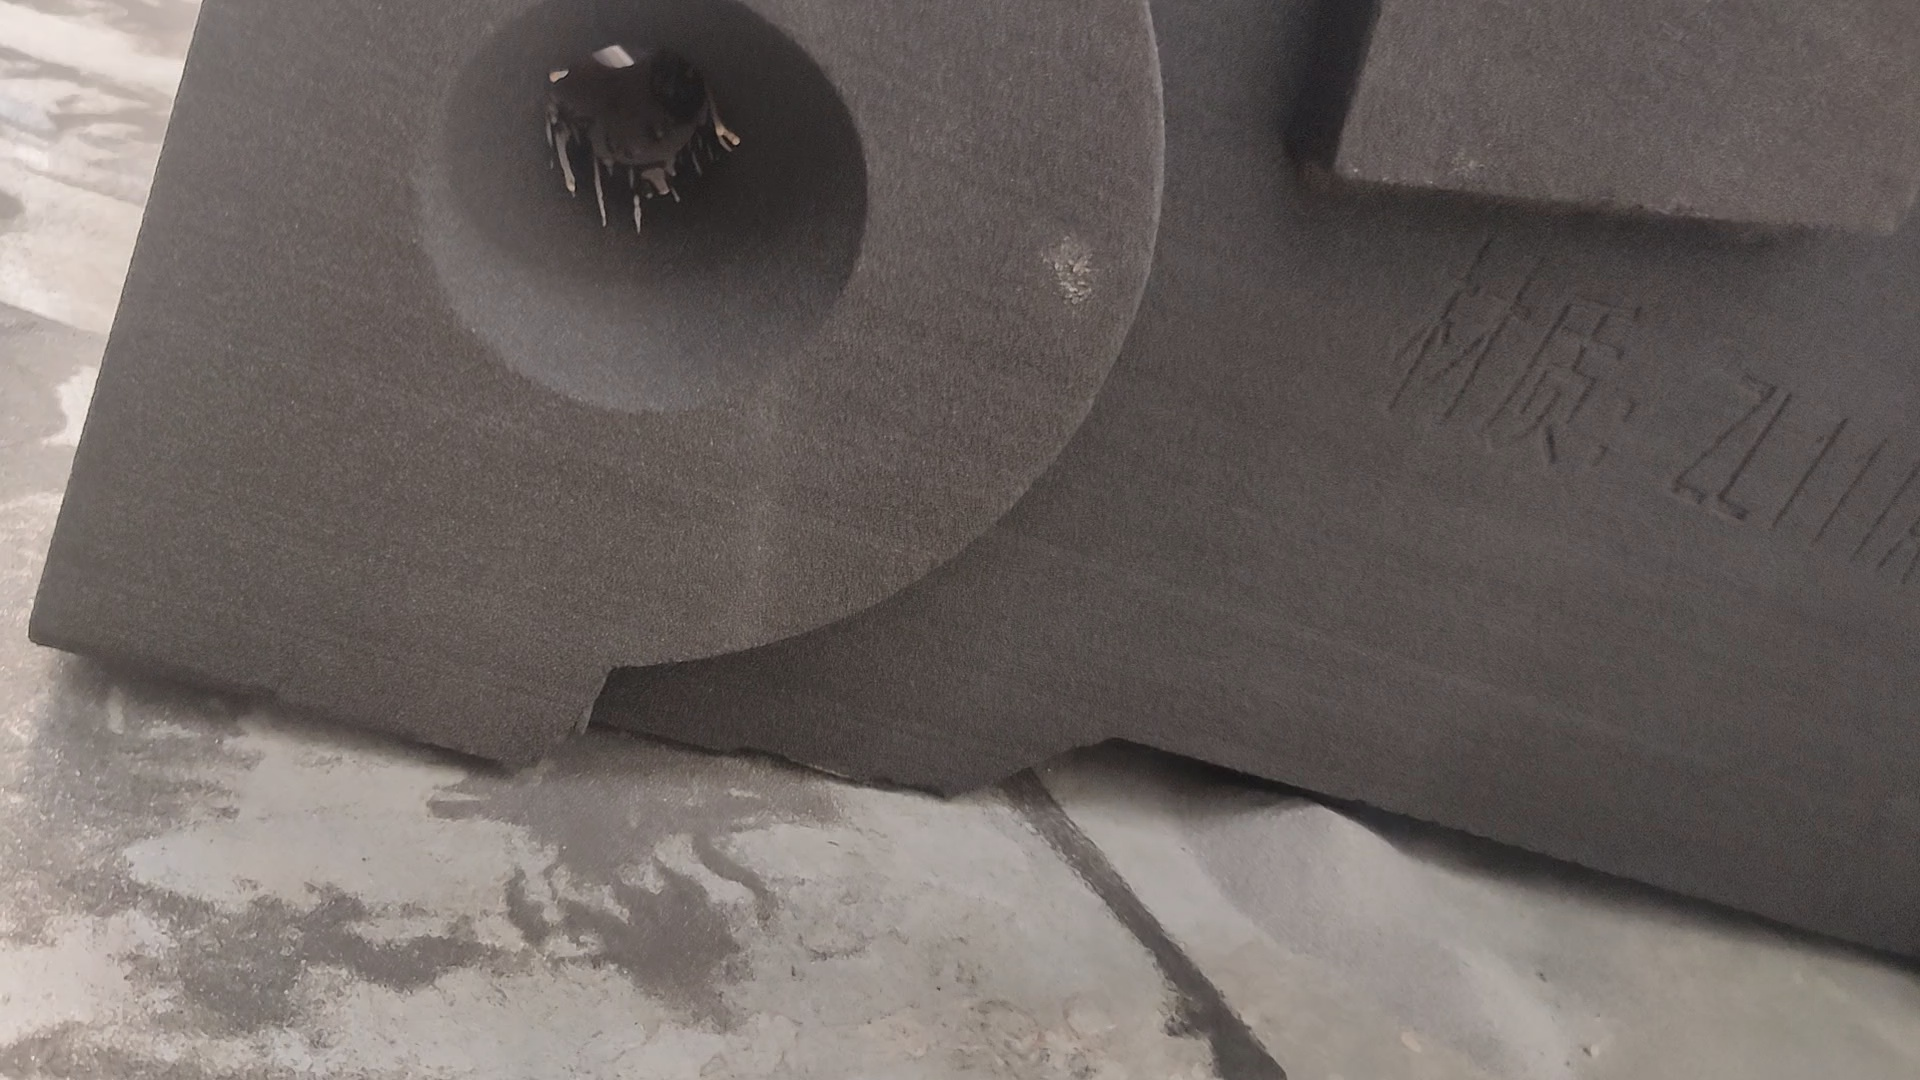pouring hole: (414, 1, 870, 411)
